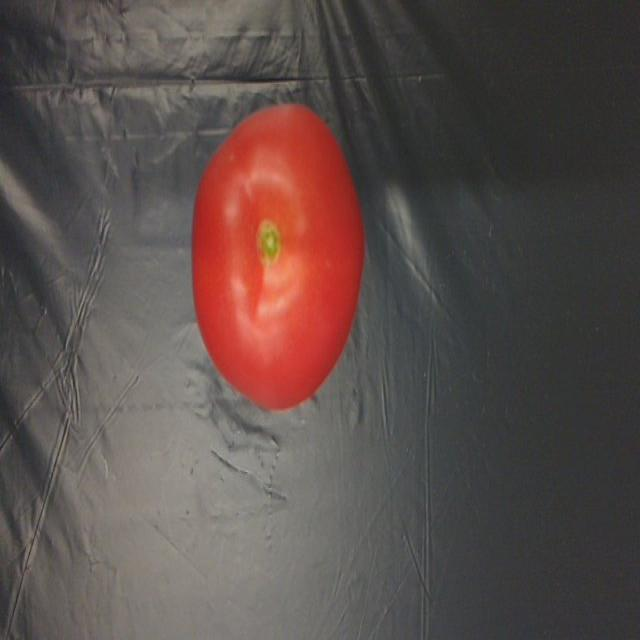kirmizi: (187, 74, 359, 417)
